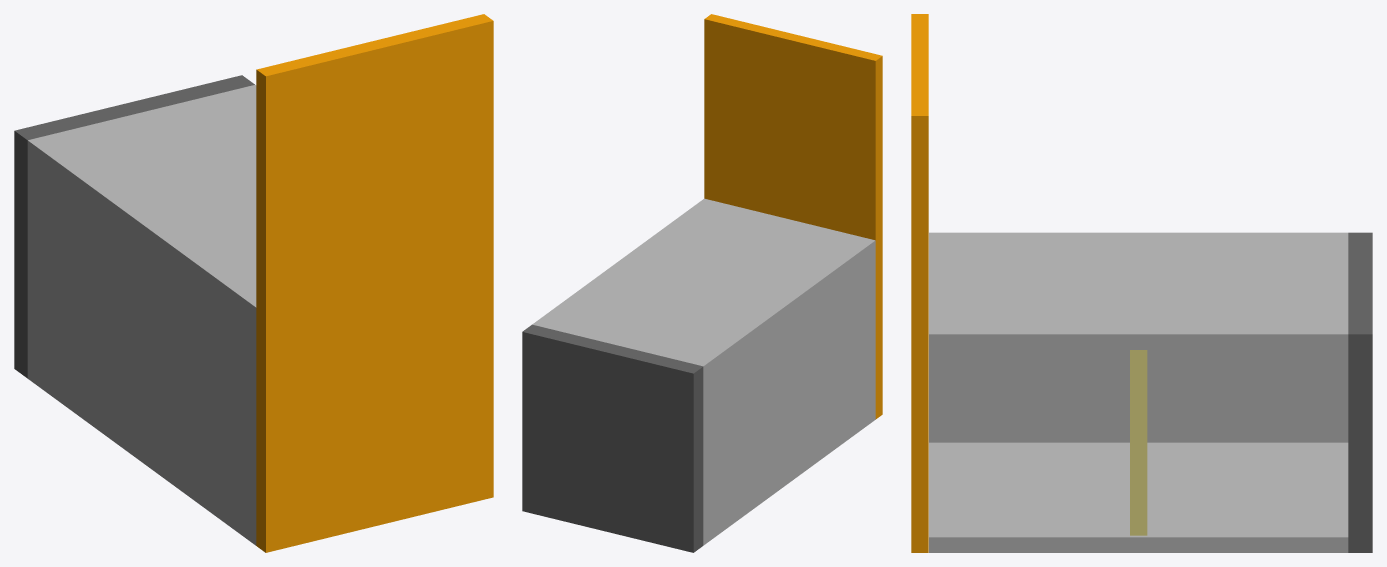
The model's file is nil_link_mesh.dae.
3 renders of one model, left to right at view 1: azimuth 30°, elevation 25°; view 2: azimuth 150°, elevation 25°; view 3: azimuth 270°, elevation 25°, orthographic. The views are drawn at different scales.
Visible parts, largest first — view 1: nil_link (×6); view 2: nil_link (×6); view 3: nil_link (×7).
Part boxes in pixels (x1=…): nil_link (×6): x1=14, y1=14, x2=493, y2=552; nil_link (×6): x1=522, y1=14, x2=882, y2=552; nil_link (×7): x1=911, y1=14, x2=1372, y2=552.
Bounding box in the file's own units: 0.45 × 0.9 × 0.8605.
